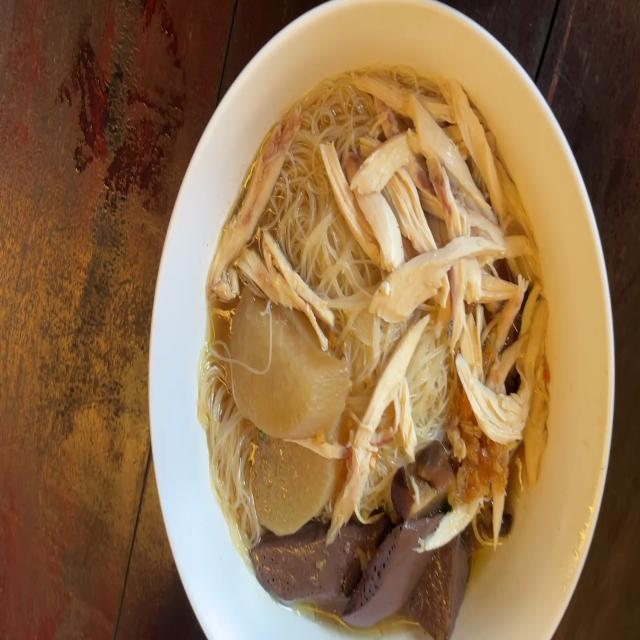noodle: (213, 70, 531, 640)
